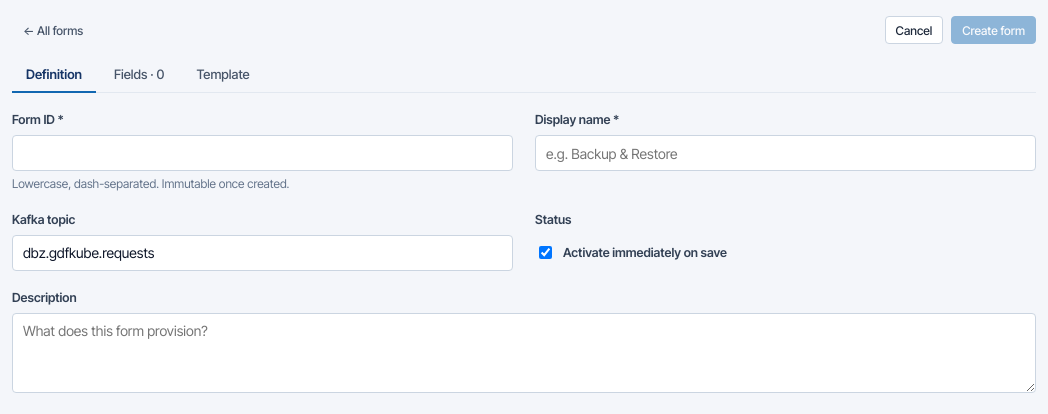
Scenario: NewFormPage › switching to Fields shows the editable list
Click the tab "Fields · 0". click: point(139, 76)
box: [100, 58, 178, 93]
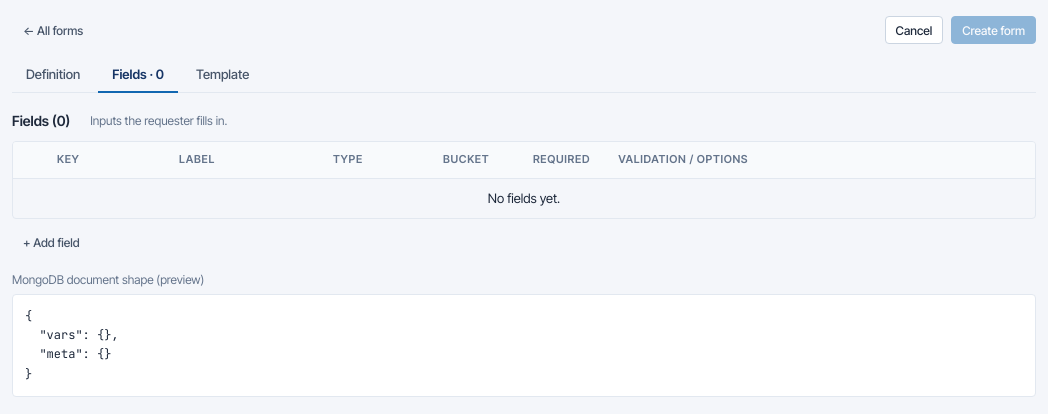
Result: the table with test id "fields-table" that starts with "Key" is shown at [13, 142, 1035, 218]
Result: the button "+ Add field" is shown at [12, 229, 91, 257]
